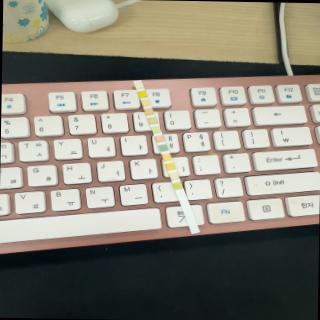mark: (156, 134, 164, 142), (134, 81, 143, 88), (173, 182, 182, 189), (158, 144, 168, 150), (145, 108, 153, 115), (162, 153, 170, 160), (137, 90, 146, 96), (152, 126, 161, 132), (166, 162, 175, 168), (141, 99, 149, 105), (148, 117, 156, 123), (170, 173, 178, 179)
